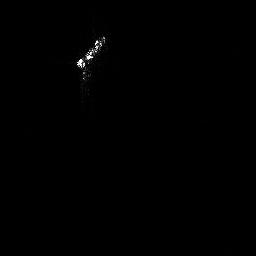ship: (75, 34, 108, 86)
